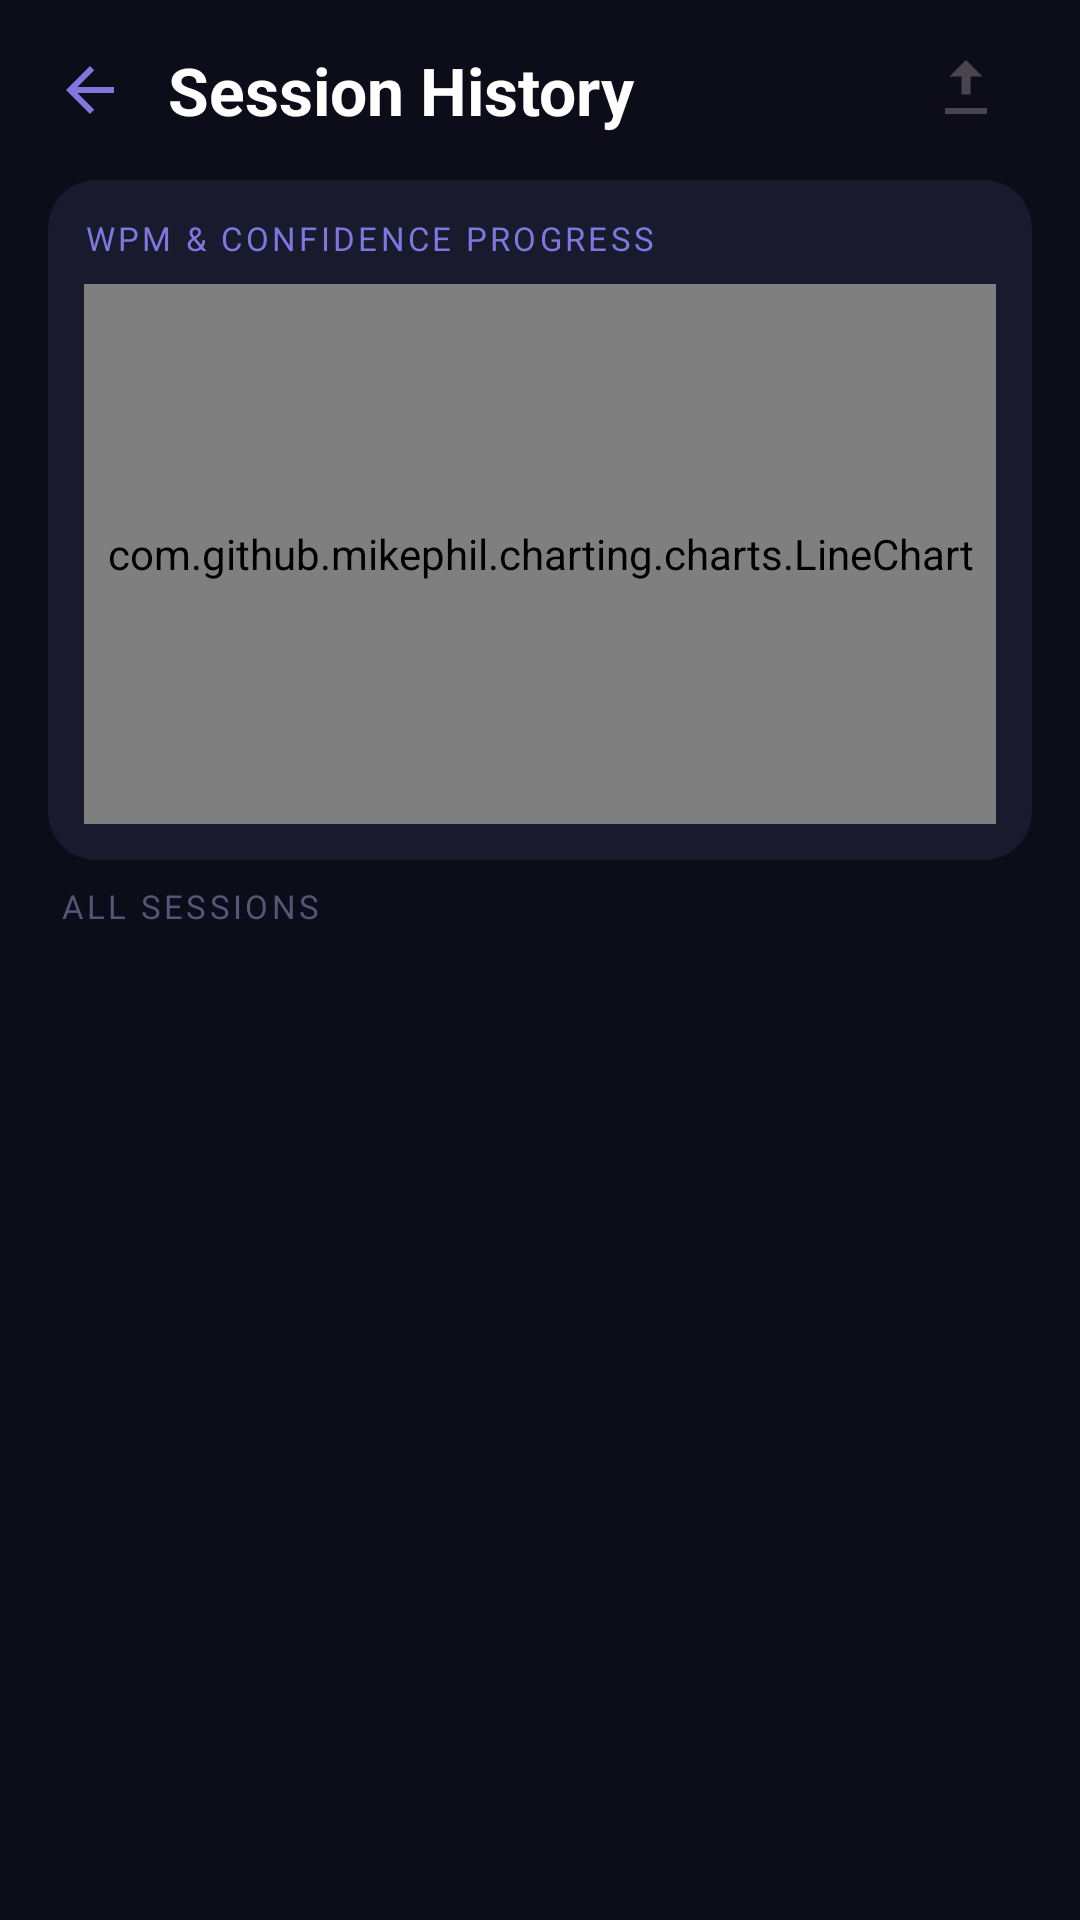

Point at icon controls on the screen. Image size 1080 × 1920, points as (x=x, y=y).
Back: (x=90, y=90)
Export Data: (x=966, y=87)
